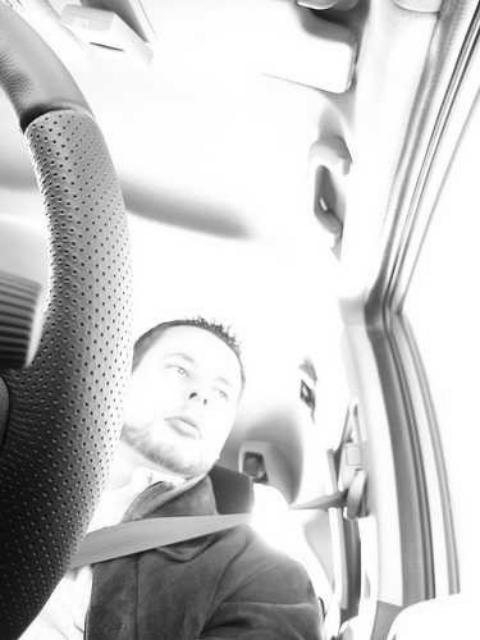SafeDriving: (162, 354, 194, 385)
Seatbelt: (65, 439, 367, 573)
